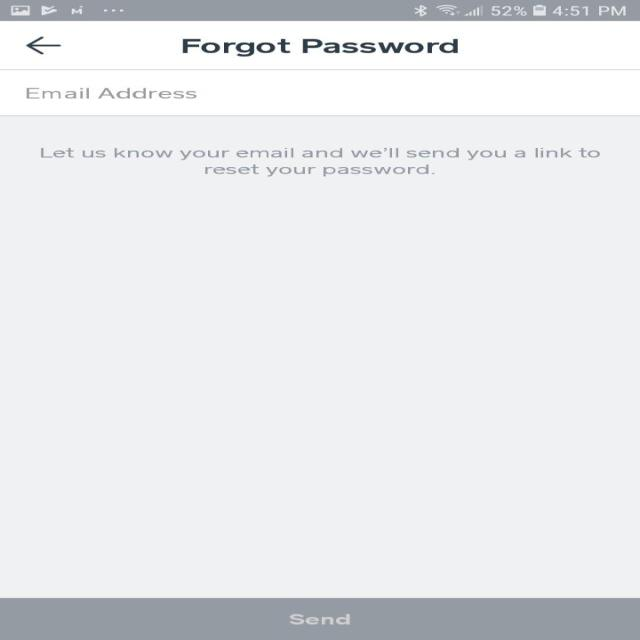Icon: (24, 36, 62, 55)
Text: (40, 148, 600, 176), (181, 39, 458, 57), (25, 88, 196, 100)
TextButton: (0, 598, 639, 640)
